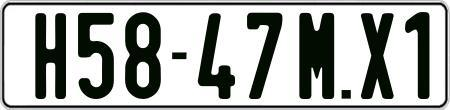1: (402, 10, 428, 101)
4: (197, 10, 239, 98)
5: (77, 12, 118, 98)
7: (247, 11, 284, 101)
8: (123, 10, 161, 98)
H: (32, 12, 66, 98)
M: (296, 13, 336, 103)
X: (360, 11, 393, 102)
